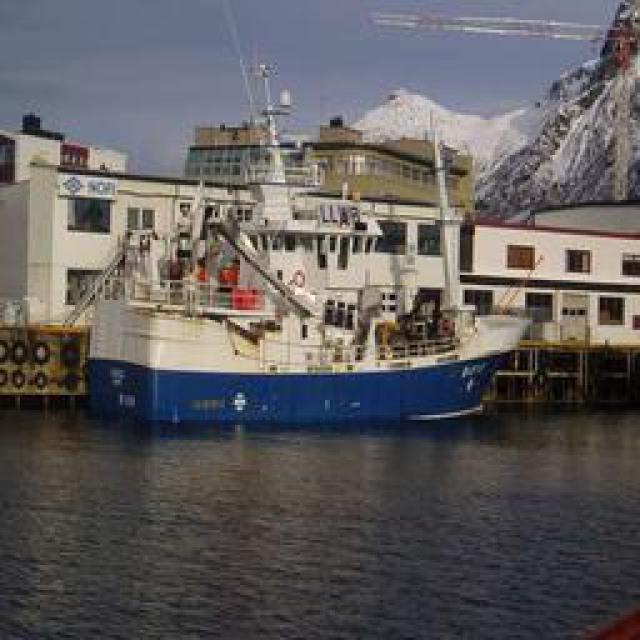Ship: (82, 97, 532, 427)
